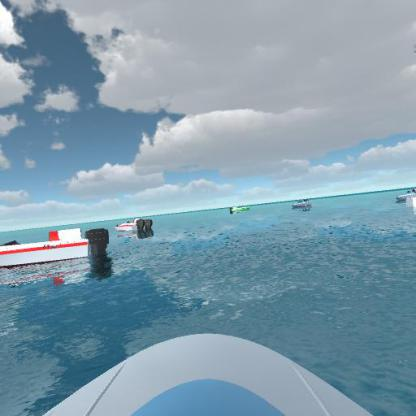usv0: (226, 201, 254, 219)
usv1: (392, 183, 415, 206), (286, 196, 317, 211)
usv3: (2, 223, 119, 269), (115, 214, 160, 237)
